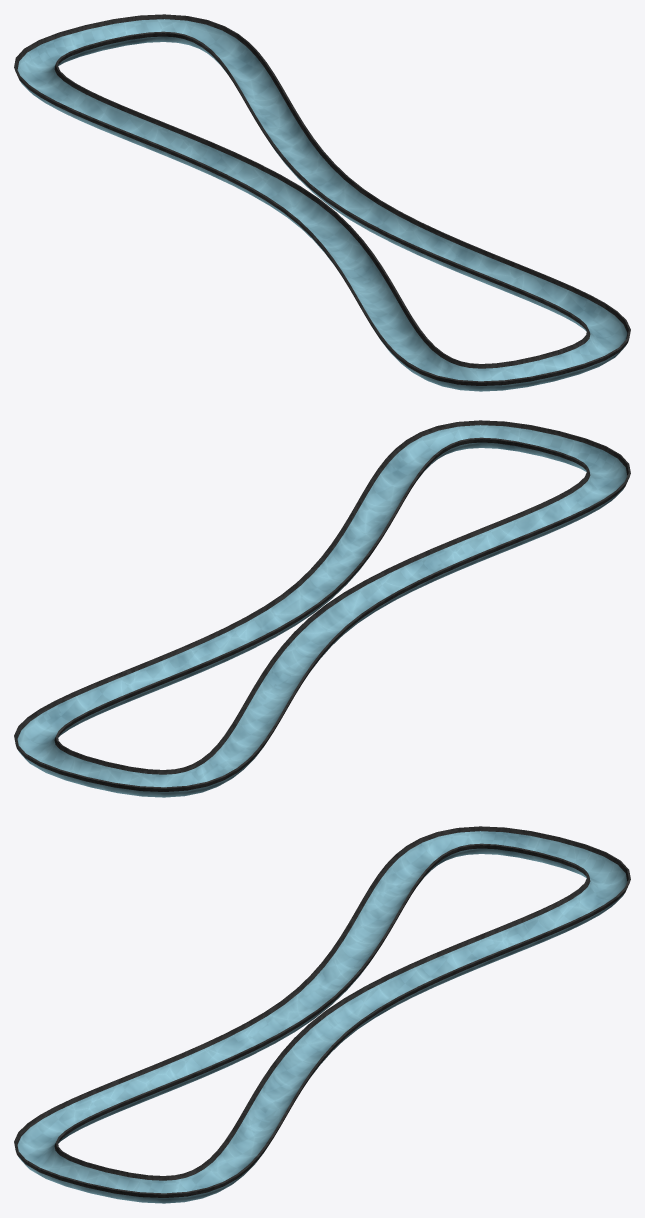
Rendered from track_4.glb.
3 views of the same model, one above another, from view 1: azimuth 30°, elevation 25°; view 2: azimuth 150°, elevation 25°; view 3: azimuth 330°, elevation 25° (orthographic).
Visible parts, largest first — view 1: track 4; view 2: track 4; view 3: track 4.
Boxes of the visible parts, box(x1,y1,x2,y2) form: track 4: box(14, 14, 630, 391); track 4: box(14, 420, 630, 797); track 4: box(14, 826, 630, 1203).
Size of the model in its own units: 10.8 by 0.8076 by 41.96.
2 materials, 2 textured.
